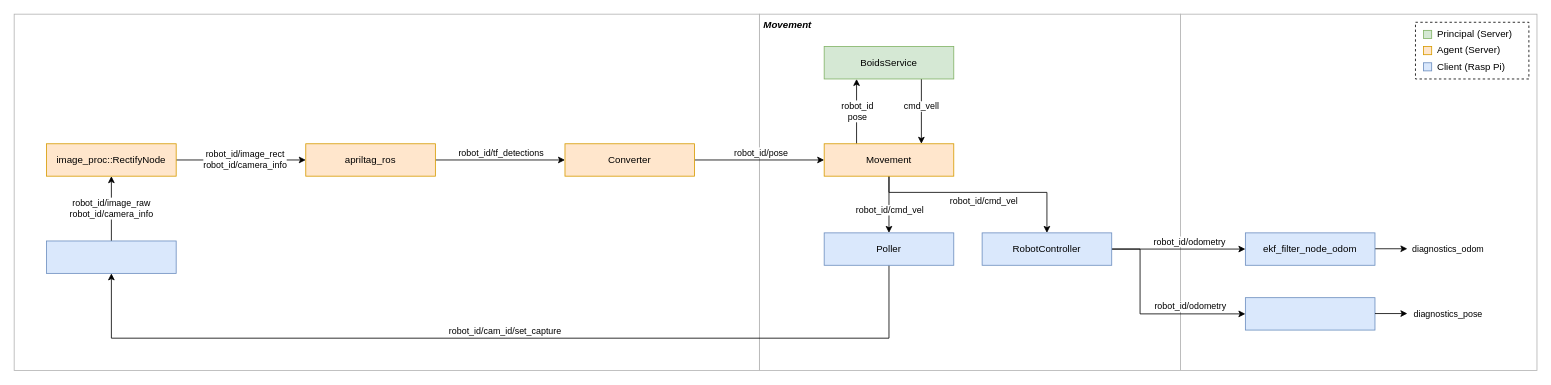
This 1551x385 diagram has some shape labels left out. The shapes that lost their labels are listed below. From the top down, each one's box as (x1, y1, x2, y2) in pixels, then its label:
(13, 13, 759, 371): Localization
(1180, 13, 1537, 371): Diagnostics ???
(46, 240, 176, 273): usb_cam_node_exe
(1245, 297, 1375, 330): ekf_filter_node_pose
